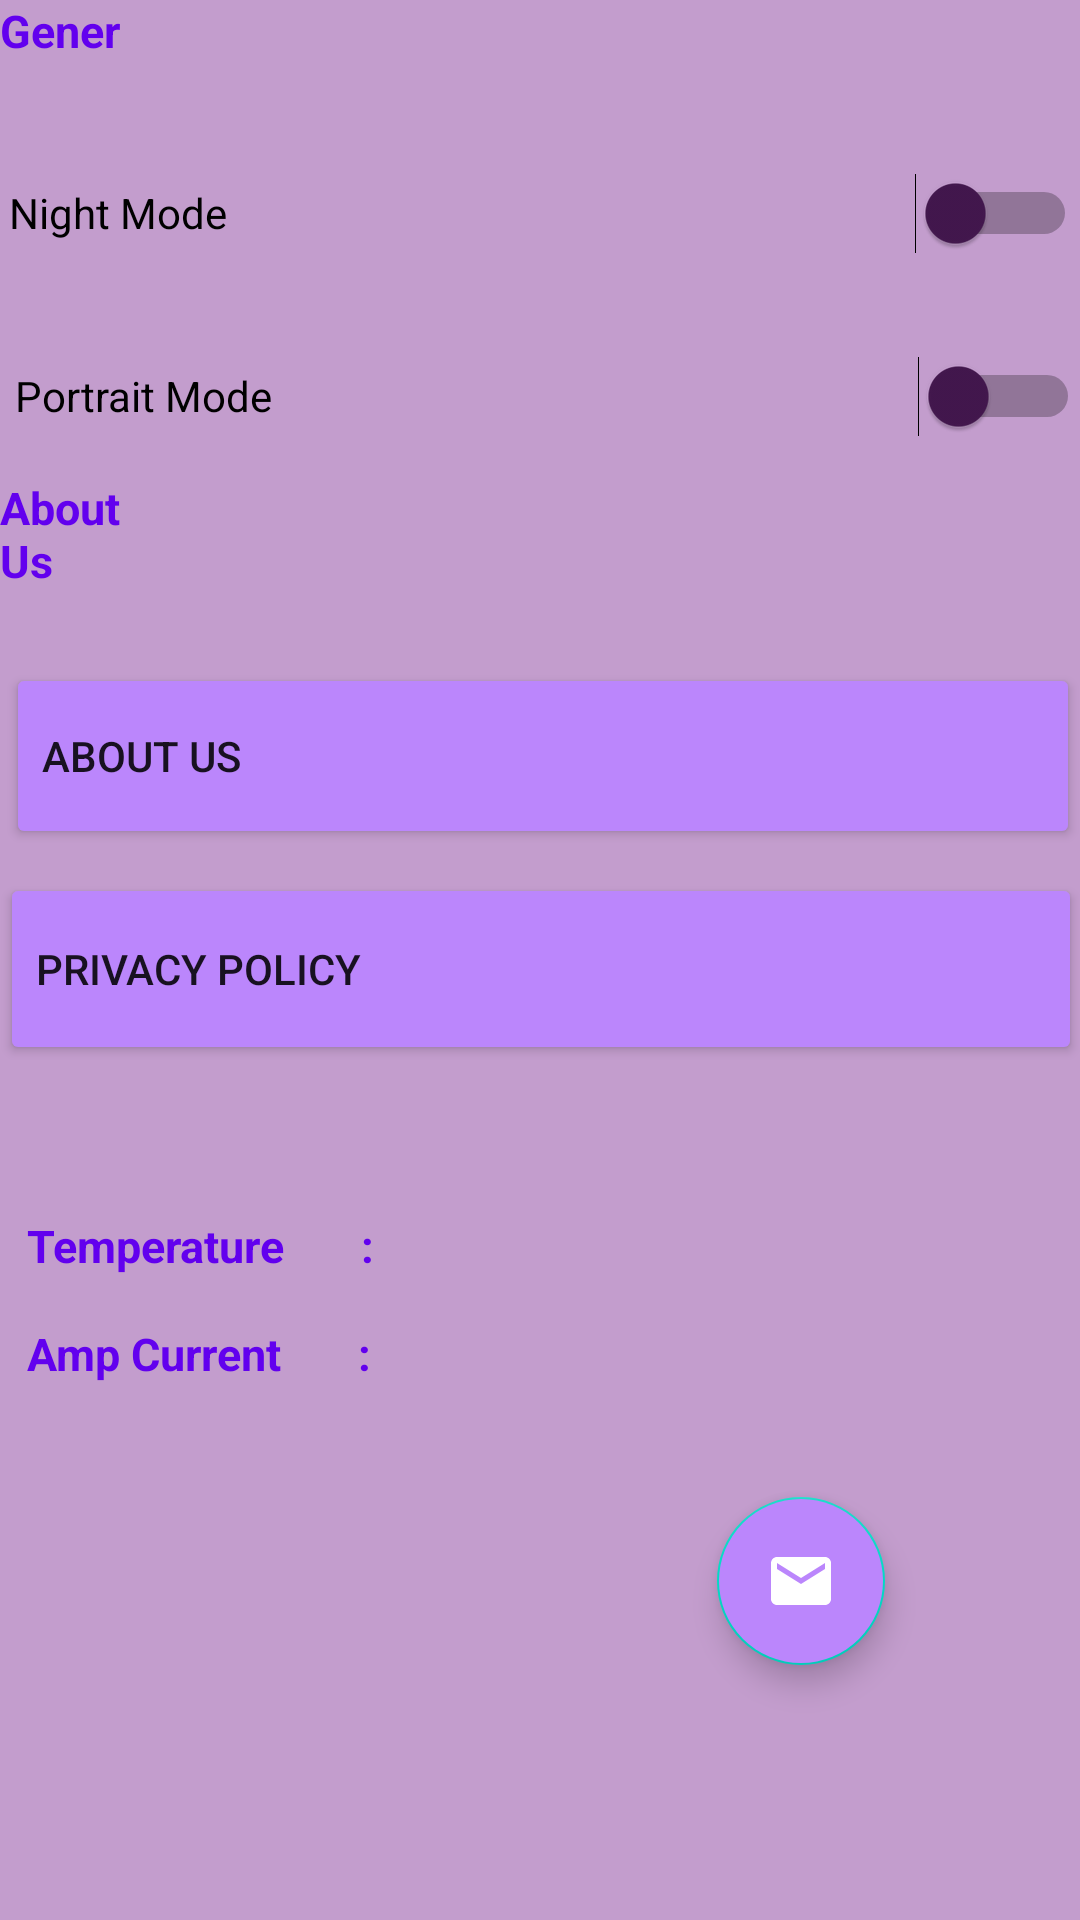

Named icons in this screenshot (1080*1920) and their centers, (x=x, y=y):
email support: (x=801, y=1581)
